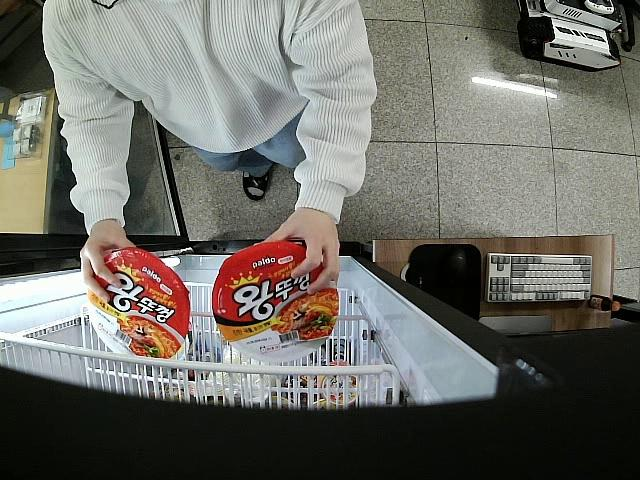00_hand: (256, 217, 340, 295), (79, 234, 139, 304)
10_wangTtukkeong: (213, 241, 339, 360), (86, 247, 190, 357)
